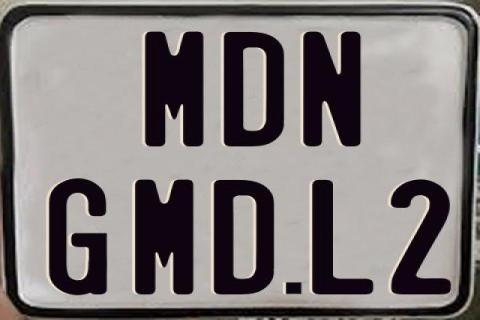0: (388, 178, 452, 296)
D: (222, 29, 286, 149), (214, 179, 276, 297)
G: (46, 177, 110, 297)
L: (311, 179, 377, 293)
M: (134, 179, 198, 299), (142, 29, 206, 145)
N: (302, 30, 362, 146)
